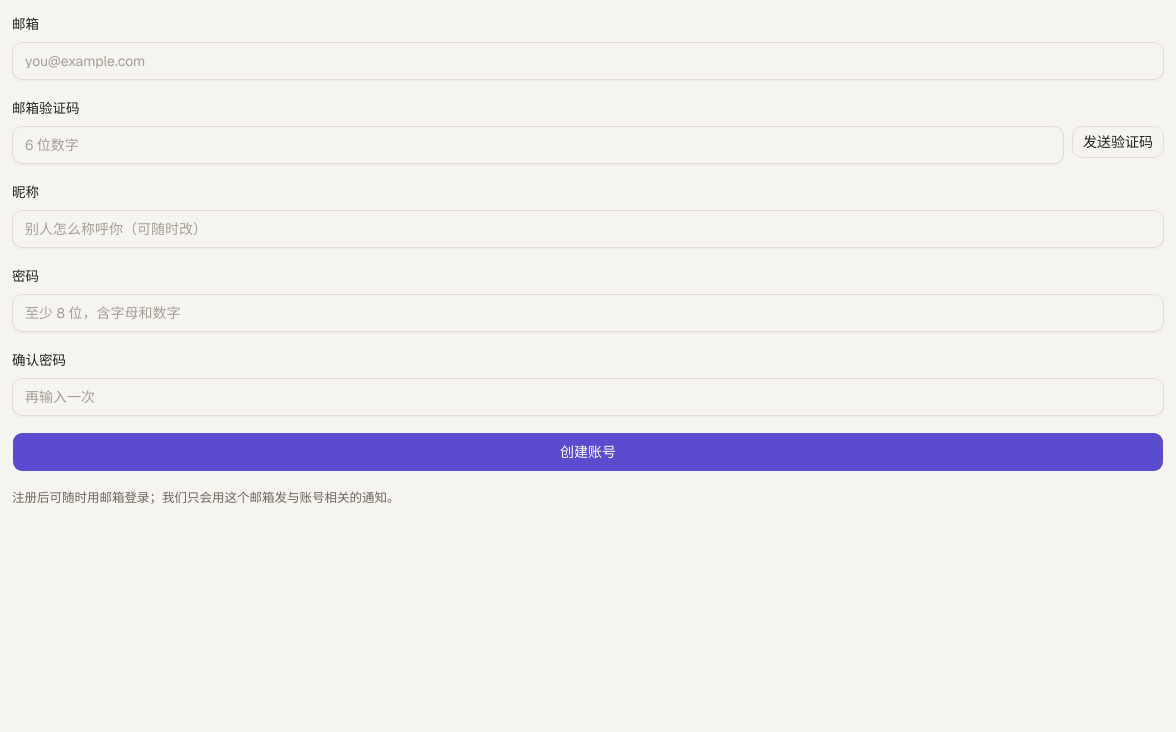
Scenario: 注册表单 › 表单级错误（如限流）展示在顶部
The width and height of the screenshot is (1176, 732).
In the field labelled "邮箱": (588, 61) [12,42,1164,80], type "ming@example.com"
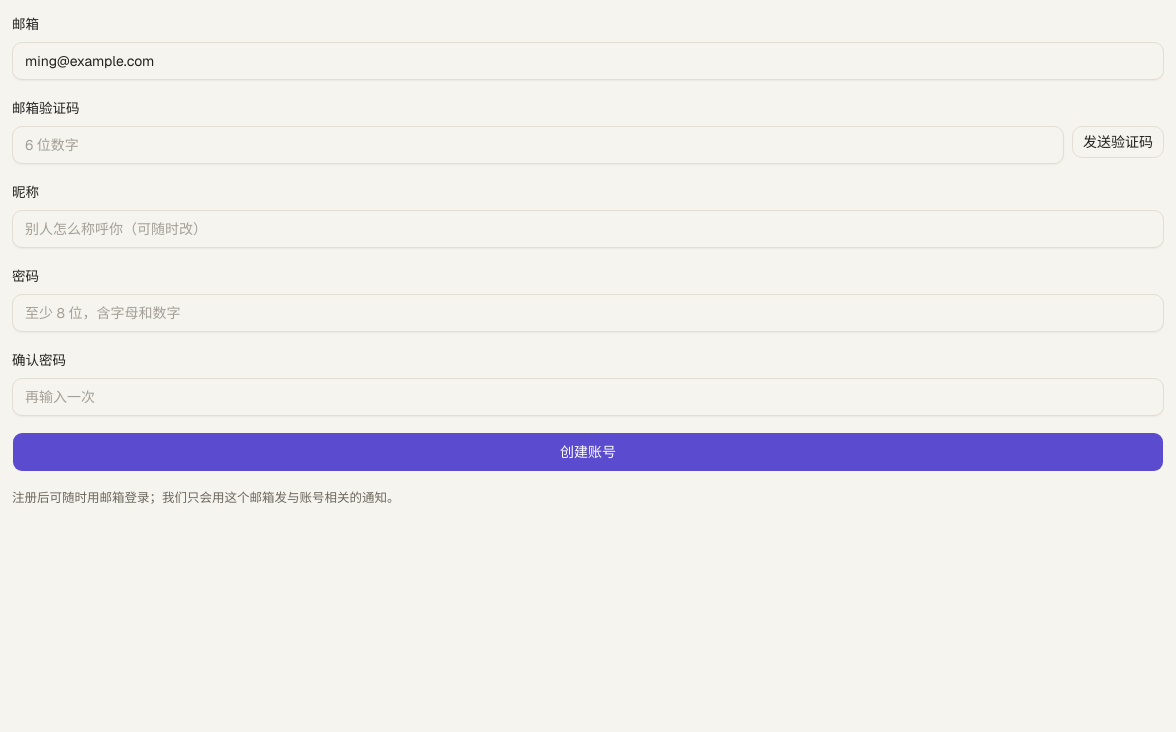
In the field labelled "昵称": (588, 229) [12,210,1164,248], type "明"
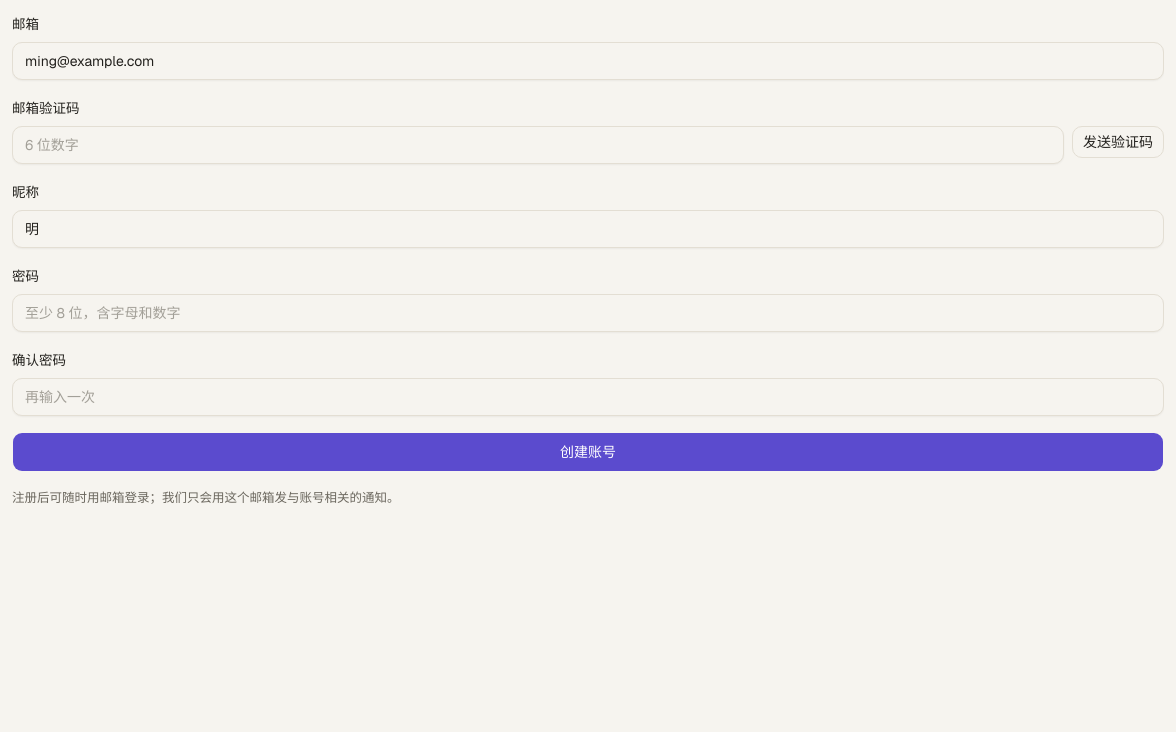
In the password field labelled "密码": (588, 313) [12,294,1164,332], type "zhuojian2026"
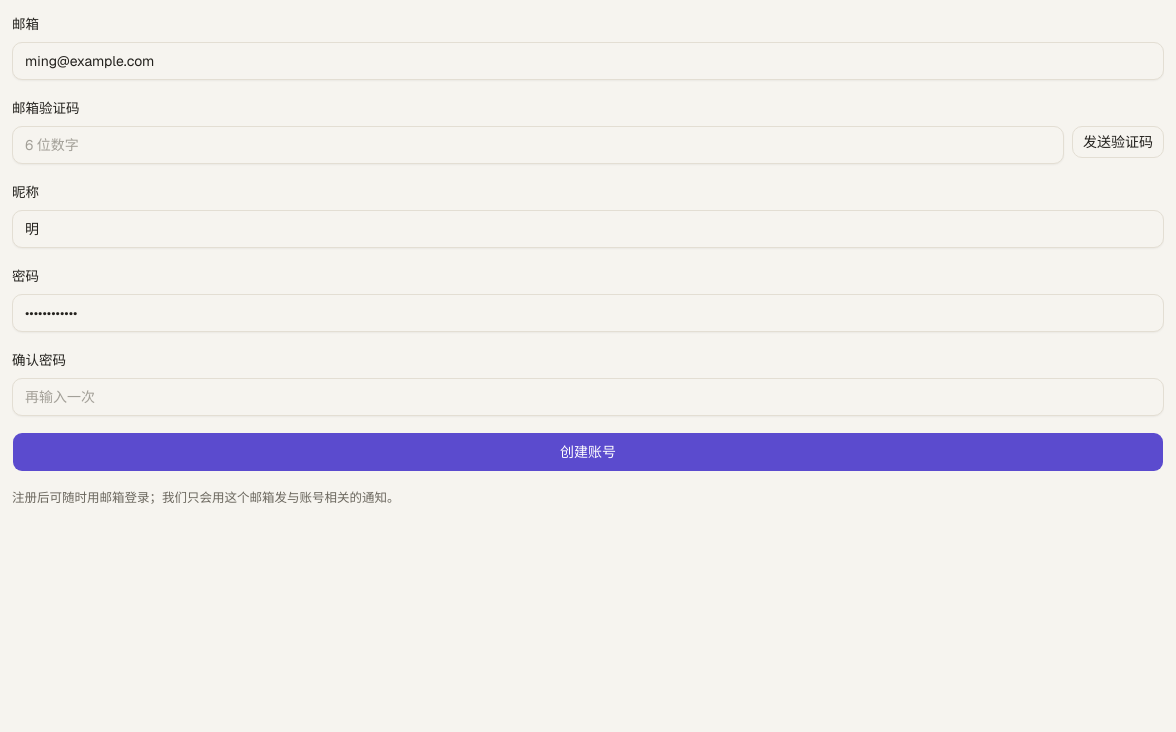
In the password field labelled "确认密码": (588, 397) [12,378,1164,416], type "zhuojian2026"
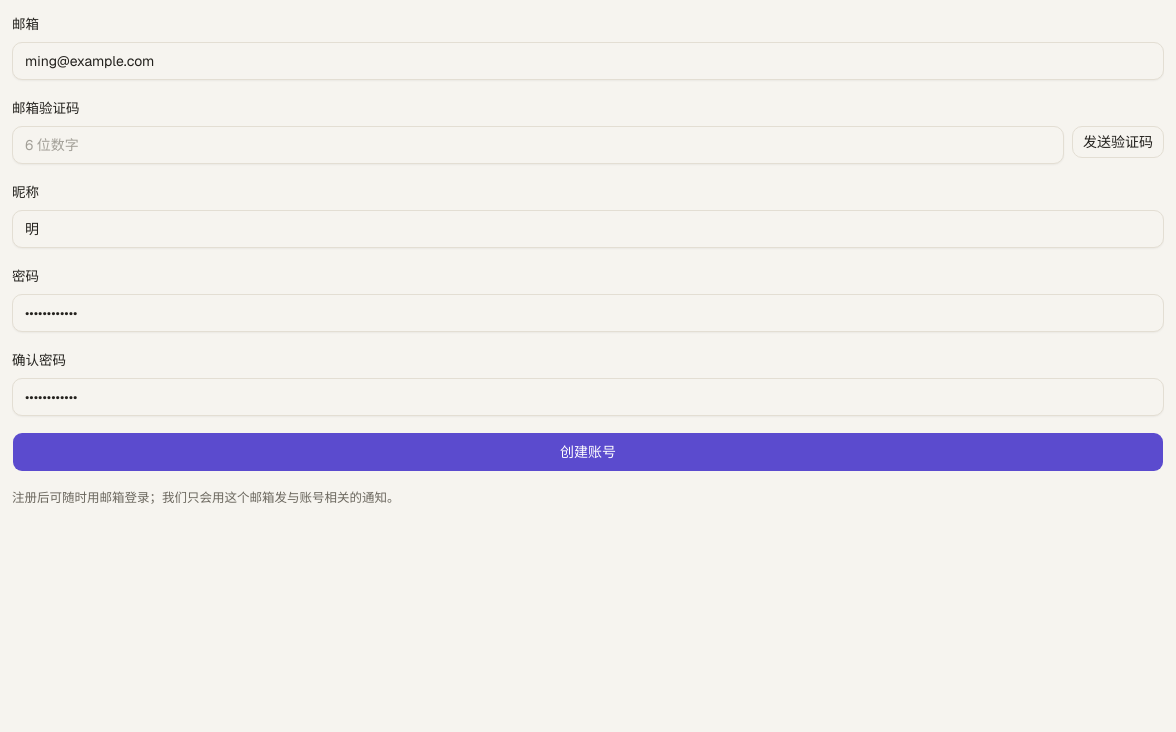
Click the button "创建账号": (588, 452) [12,432,1164,472]
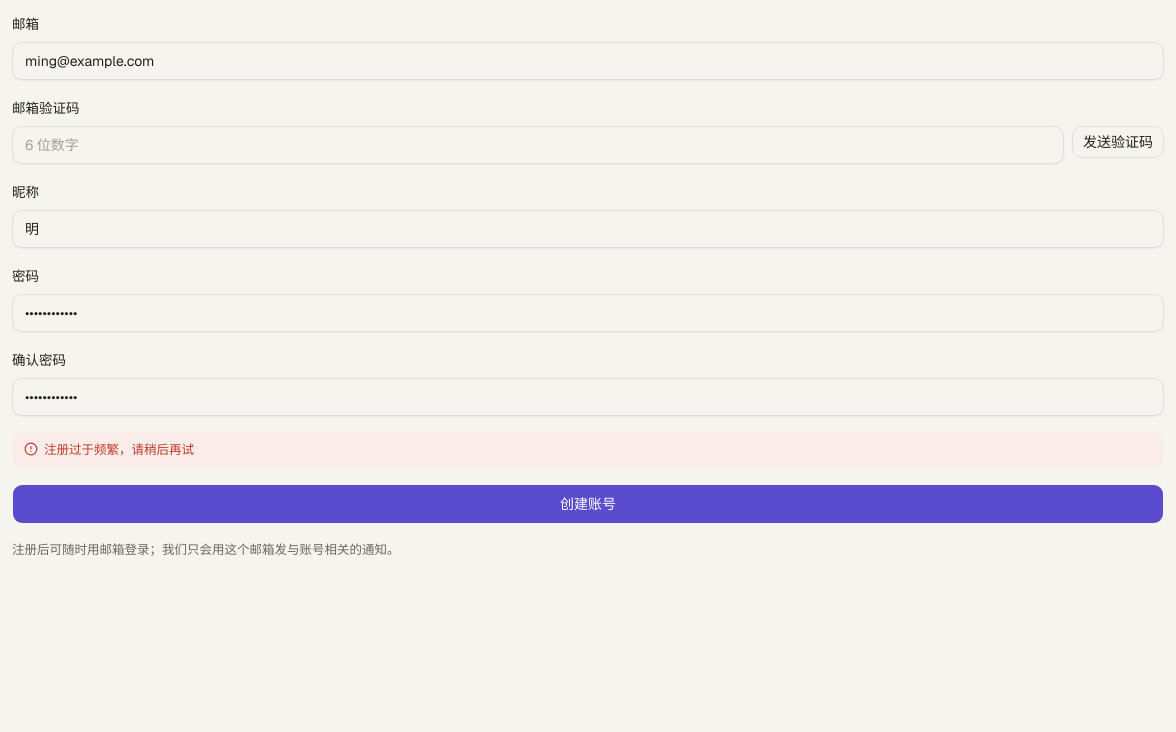
Check: the text "注册过于频繁，请稍后再试" is shown, box [44,440,194,460]
